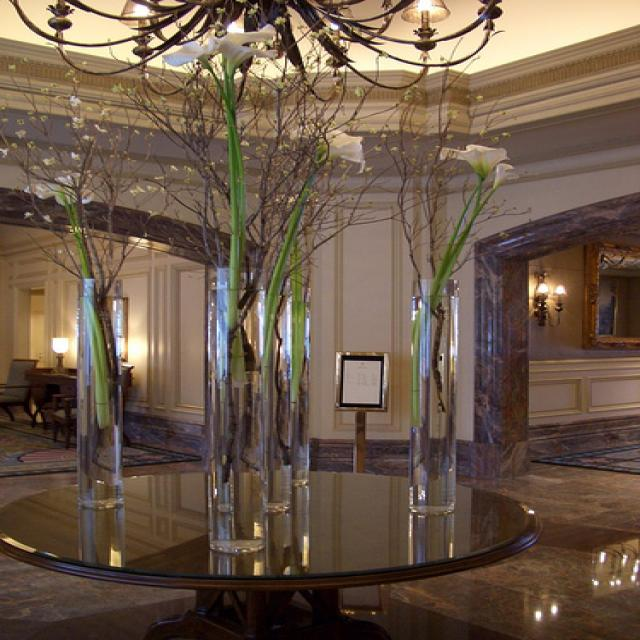chair: (1, 358, 42, 425), (51, 395, 76, 449)
